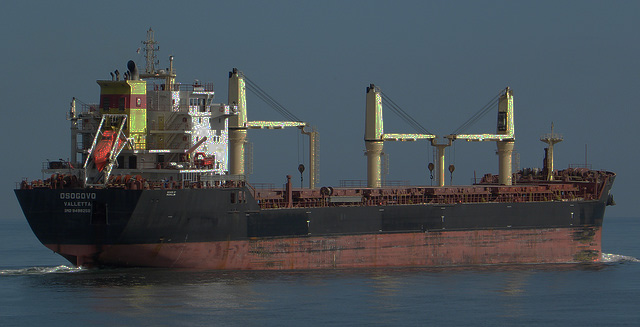bulk carrier: (14, 32, 615, 279)
